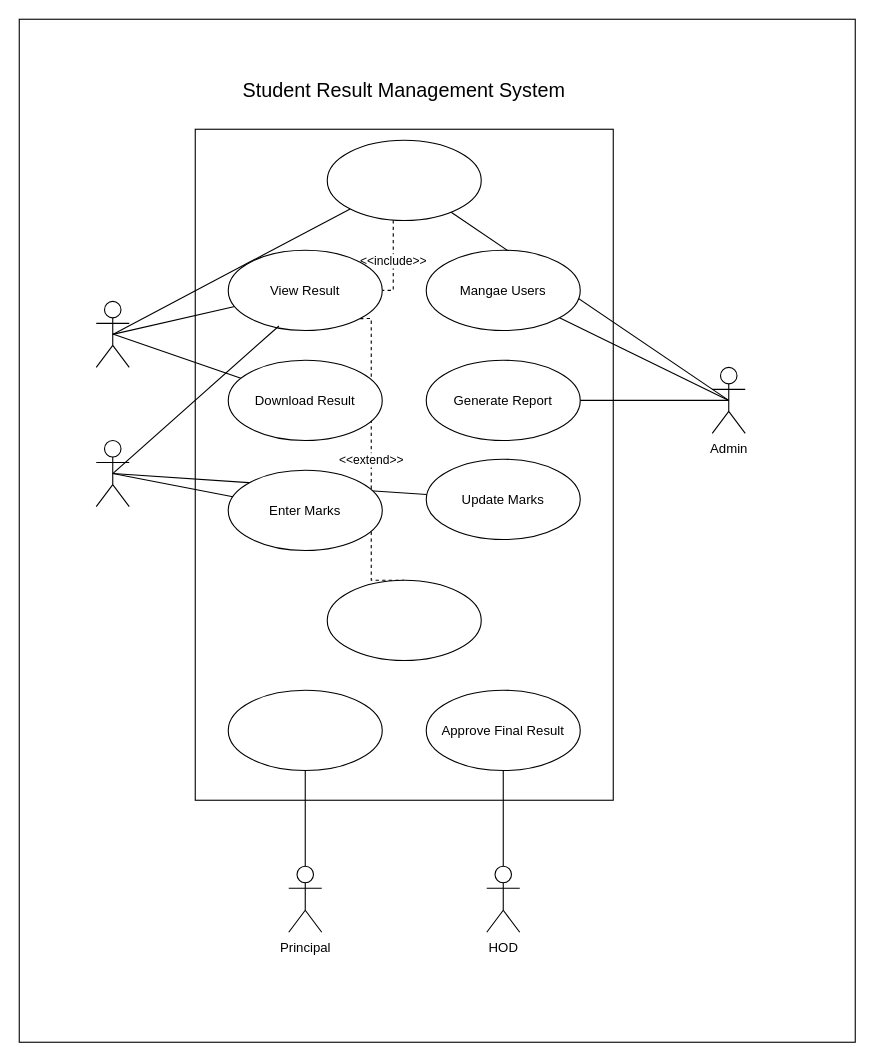
Some shapes in this 875 by 1062 pixel diagram are drawn without their labels. Here are the shapes that lost their labels. From the top down, the centre of each, then its label:
At point 403,180: "Login".
At point 112,333: "Student".
At point 112,473: "Teacher".
At point 403,620: "Request Re-evaluation".
At point 304,730: "View Analytics".
